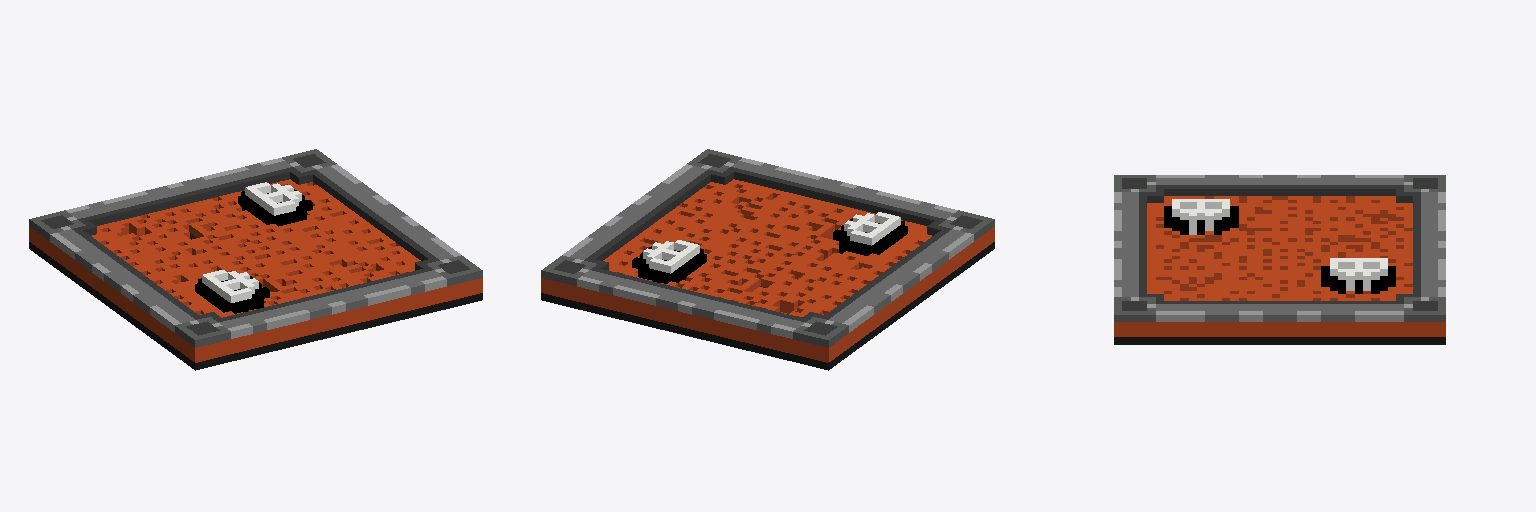
3 views of the same model, side by side, from view 1: azimuth 30°, elevation 25°; view 2: azimuth 150°, elevation 25°; view 3: azimuth 270°, elevation 25° (orthographic).
Parts seen in each view (by area): view 1: object 1; view 2: object 1; view 3: object 1.
Boxes of the visible parts, x1=… form: object 1: x1=29, y1=149, x2=482, y2=370; object 1: x1=541, y1=149, x2=994, y2=370; object 1: x1=1114, y1=175, x2=1445, y2=344.
Bounding box in the file's own units: 4 × 0.5 × 4.
Materials: 1 (1 with a texture image).